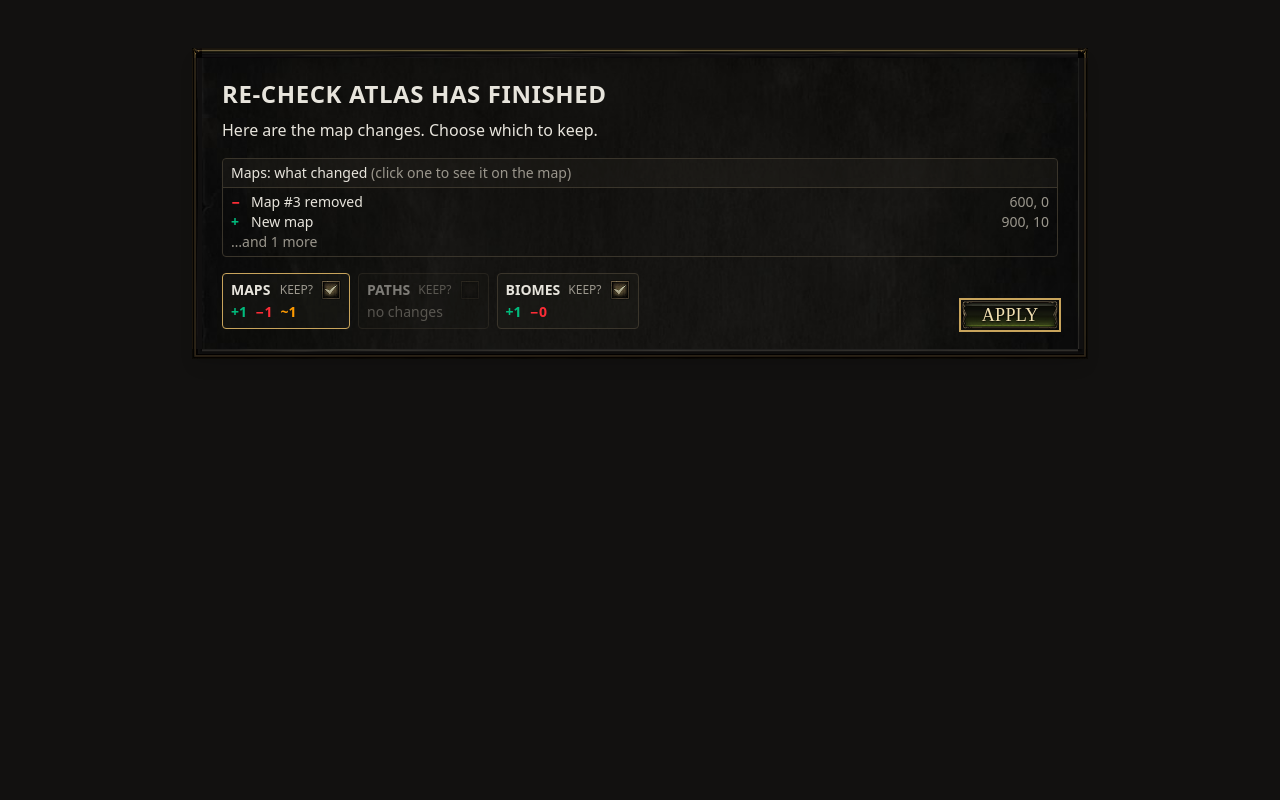
Test case: ChoicesDialog › shows each group's +added / −removed and sends the groups kept
Later steps or results of the test are not shown.
Expected: the heading "Re-check atlas has finished" is shown, [222,77,607,110]
Expected: the text "~1" is shown, [280,302,296,322]
Click the checkbox named "Biomes": (620, 290) [610,280,630,300]
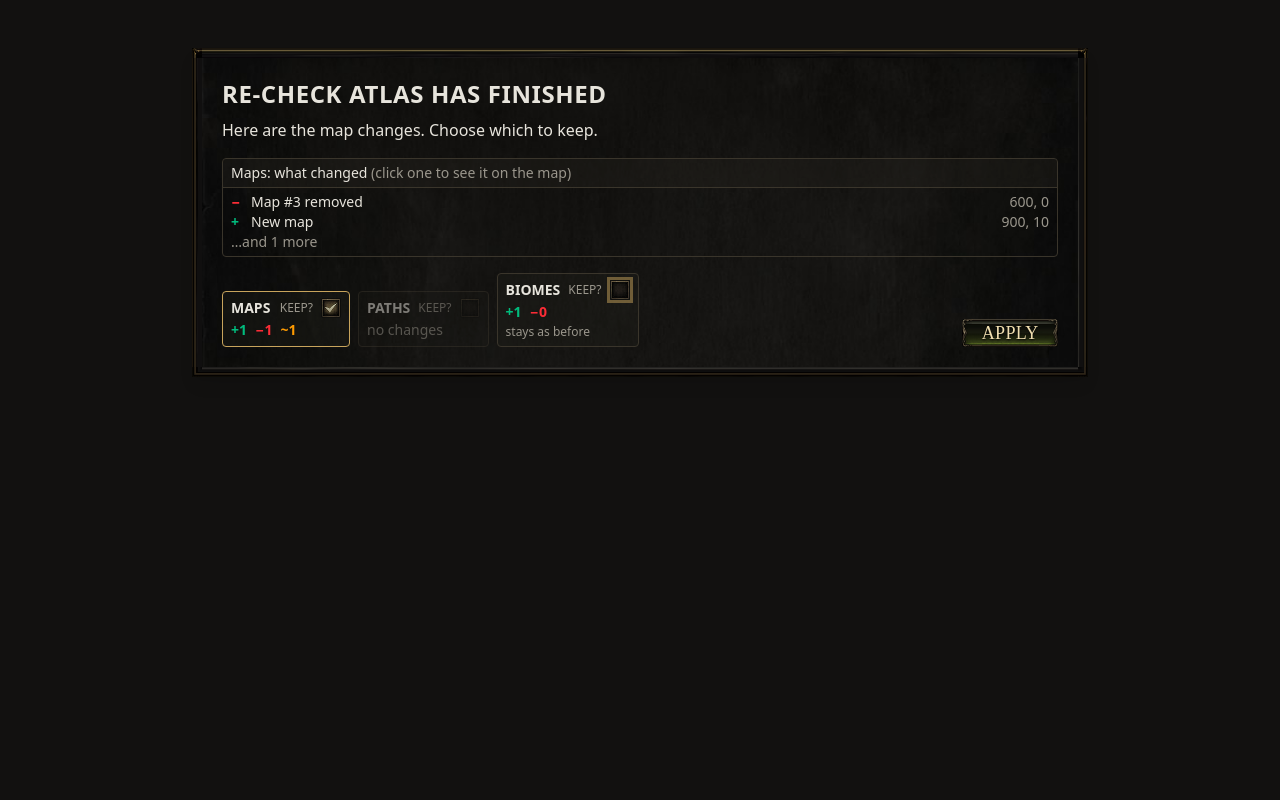
Now the text "stays as before" is shown, box [506,323,590,340]
